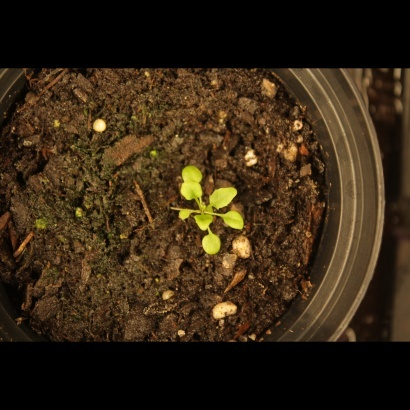leaf: (210, 184, 241, 211), (220, 208, 250, 235), (197, 231, 224, 257), (179, 161, 209, 184), (179, 179, 205, 203), (192, 211, 215, 234)
